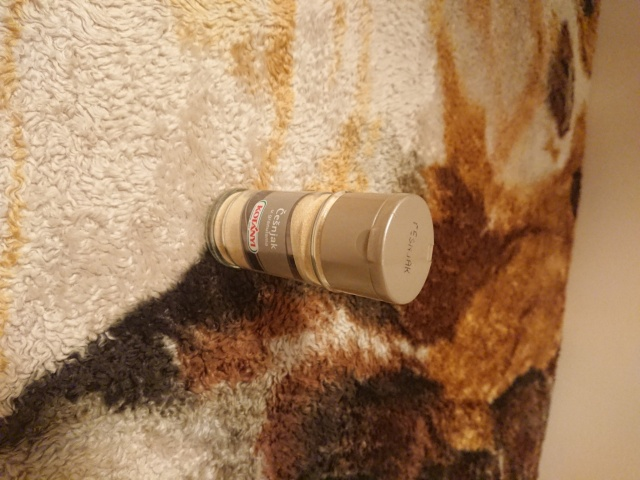Kotanyi Garlic Granules 70g: (201, 184, 436, 307)
